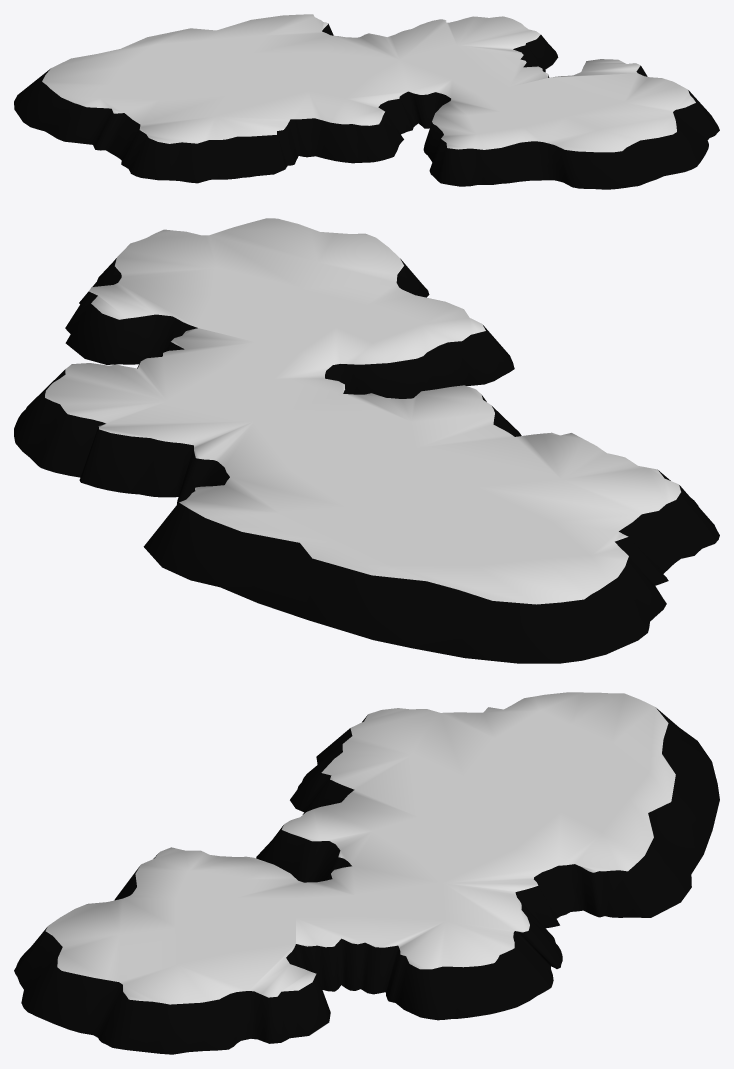
The model's file is New_Map.glb.
3 views of the same model, one above another, from view 1: azimuth 30°, elevation 25°; view 2: azimuth 150°, elevation 25°; view 3: azimuth 270°, elevation 25° (orthographic). The views are drawn at different scales.
Parts seen in each view (by area): view 1: Land_01; view 2: Land_01; view 3: Land_01.
Boxes of the visible parts, x1,y1,x2,y2 form: Land_01: (14, 14, 719, 189); Land_01: (14, 218, 719, 663); Land_01: (14, 692, 719, 1054).
Size of the model in its own units: 199 by 9.92 by 173.
Materials: 2 (1 with a texture image).
